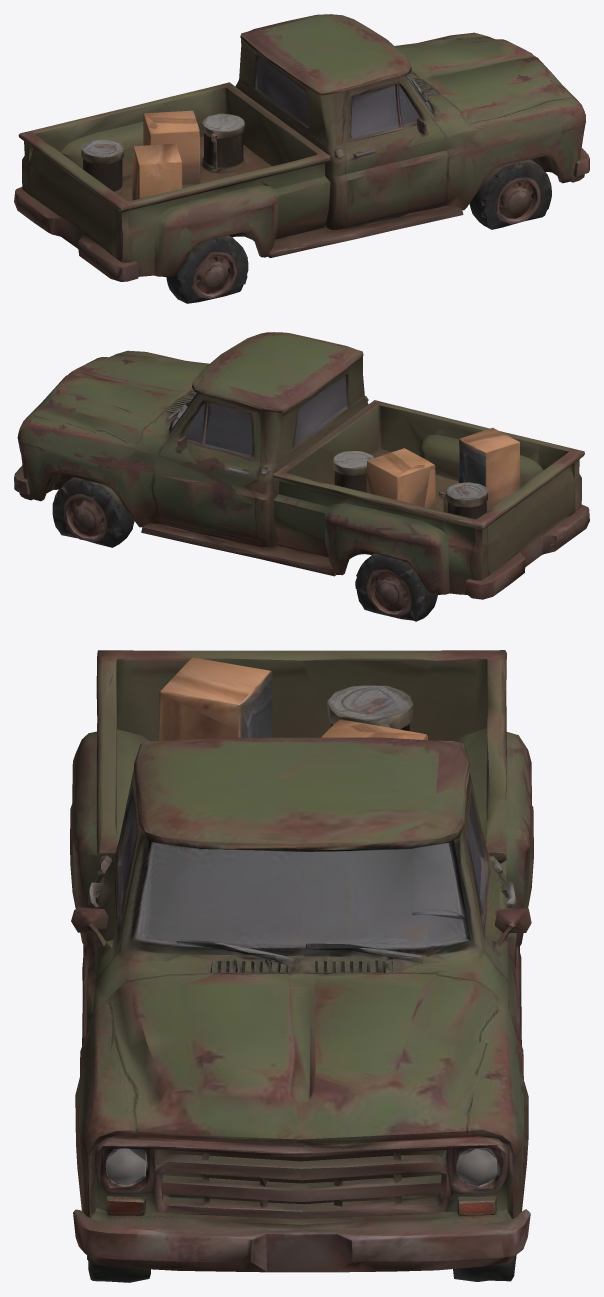
Rendered from pickup_idle.glb.
3 views of the same model, one above another, from view 1: azimuth 30°, elevation 25°; view 2: azimuth 150°, elevation 25°; view 3: azimuth 270°, elevation 25° (orthographic). The views are drawn at different scales.
Parts seen in each view (by area): view 1: tripo_node_348b39e3-d768-47f2-acf4-c5059b530347; view 2: tripo_node_348b39e3-d768-47f2-acf4-c5059b530347; view 3: tripo_node_348b39e3-d768-47f2-acf4-c5059b530347.
Boxes of the visible parts, x1,y1,x2,y2 form: tripo_node_348b39e3-d768-47f2-acf4-c5059b530347: [14, 14, 589, 303]; tripo_node_348b39e3-d768-47f2-acf4-c5059b530347: [14, 332, 589, 621]; tripo_node_348b39e3-d768-47f2-acf4-c5059b530347: [70, 650, 533, 1282].
Bounding box in the file's own units: 5.2 × 1.78 × 2.15.
1 material, 1 textured.
